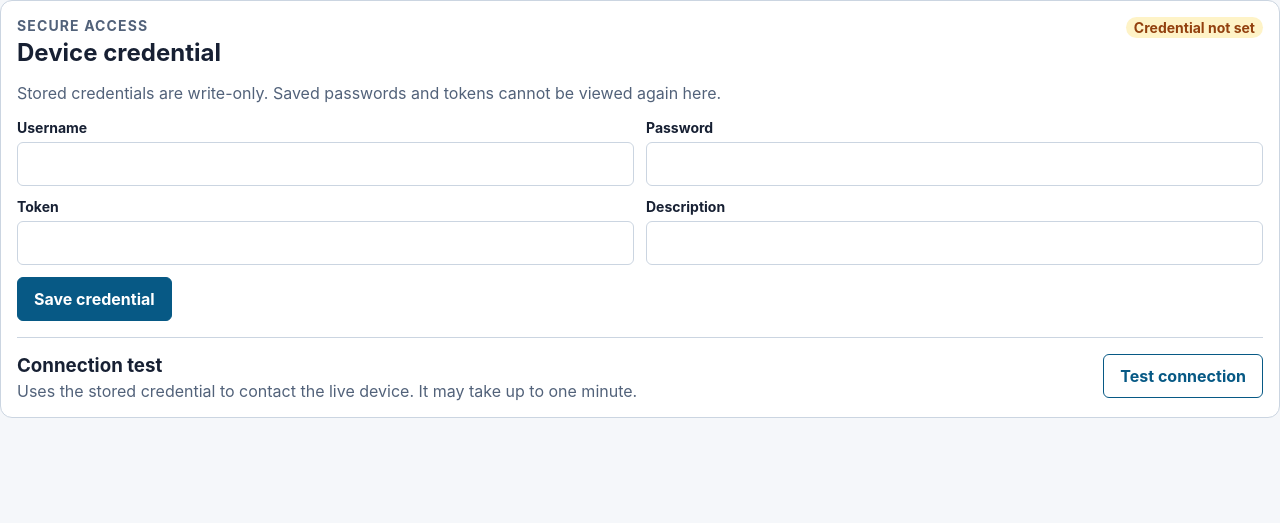
Test case: CredentialPanel › clears password and token after credential save and renders only safe confirmation data
Type "operator" into the field labelled "Username". click: (326, 164)
box: [17, 142, 634, 186]
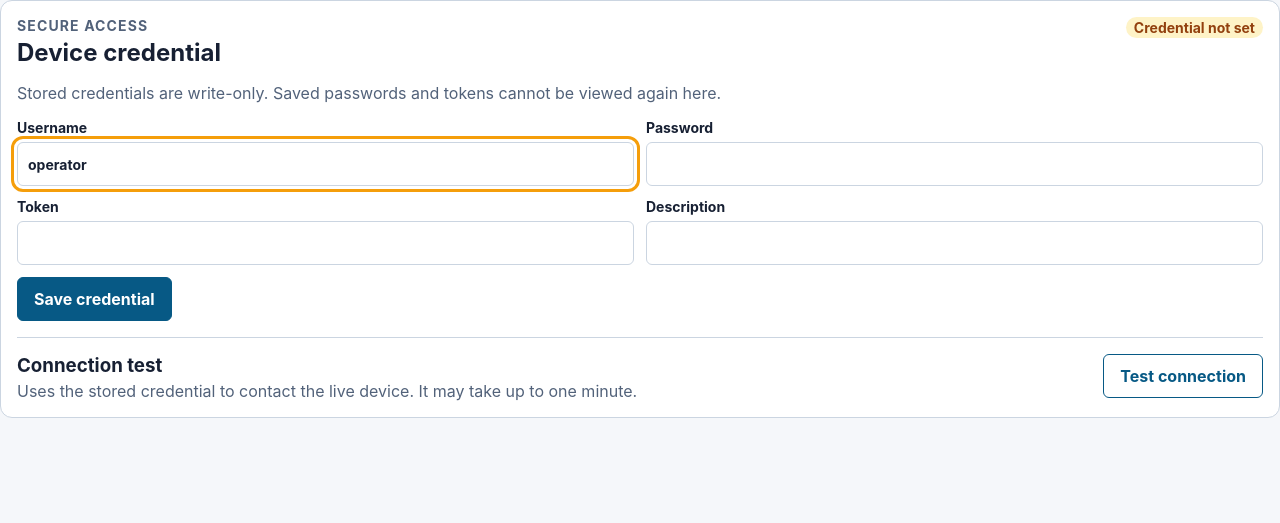
Type "never-render-again" into the password field labelled "Password". click: (954, 164)
box: [646, 142, 1263, 186]
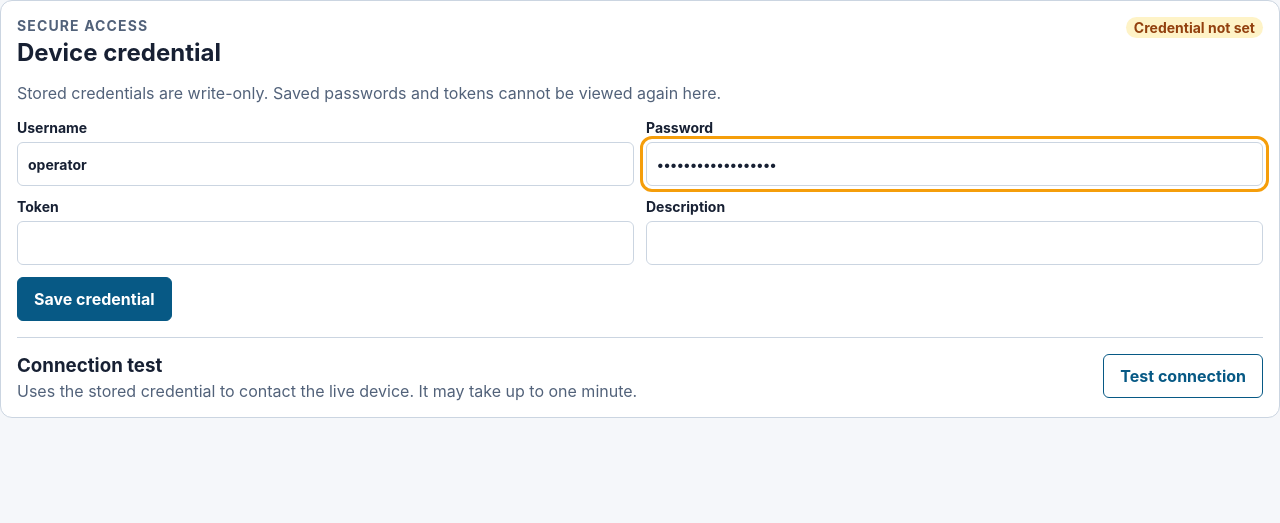
Type "also-never-render-again" into the password field labelled "Token". click: (326, 243)
box: [17, 221, 634, 265]
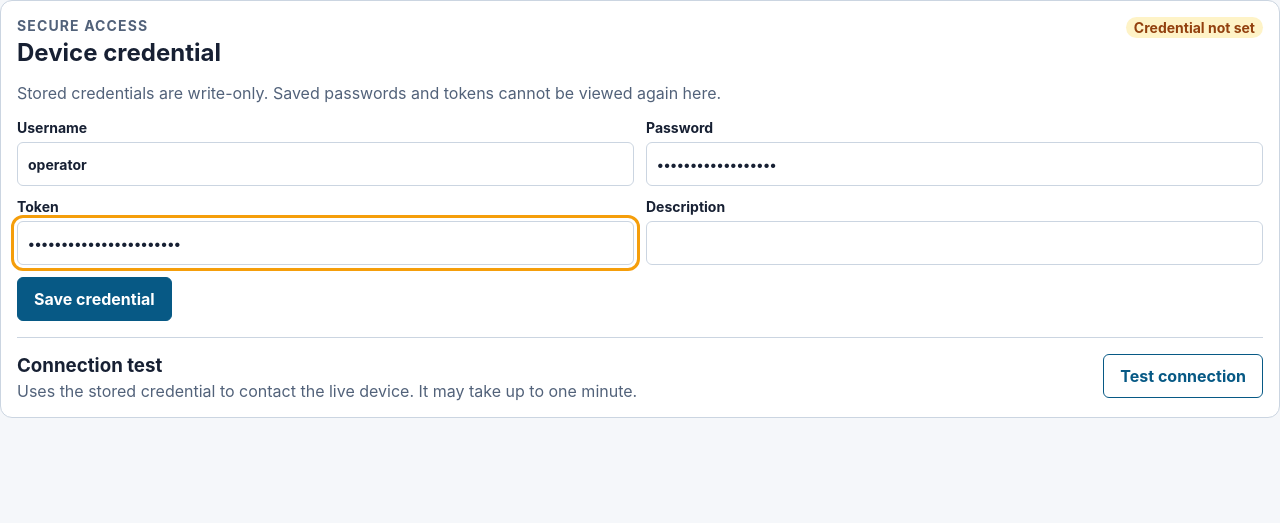
Type "Primary operator" into the field labelled "Description". click: (954, 243)
box: [646, 221, 1263, 265]
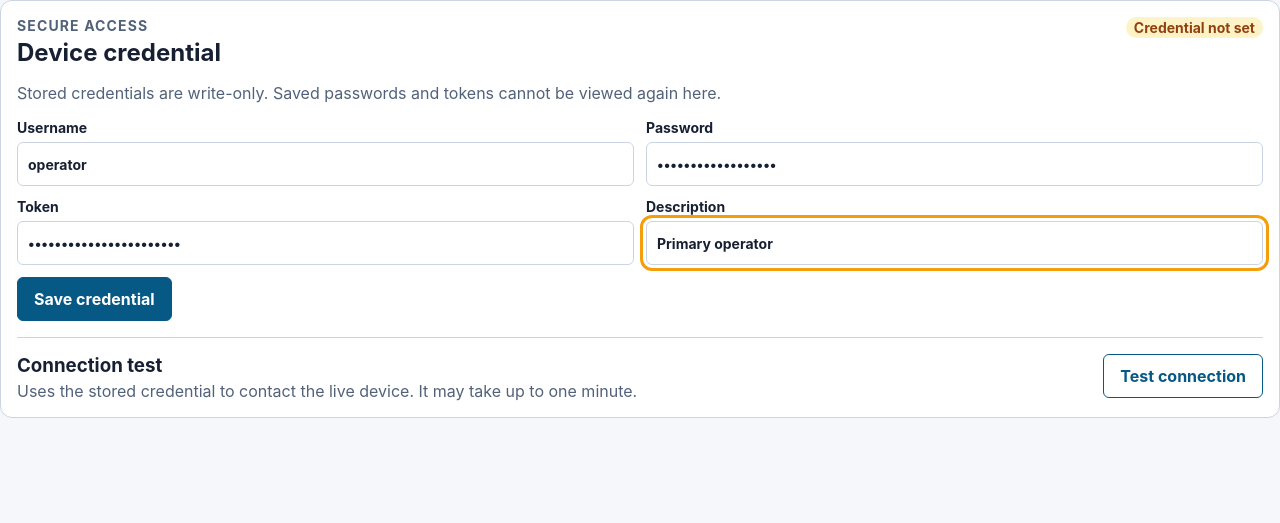
Click the button "Save credential". click: (94, 299)
box: [17, 277, 172, 321]
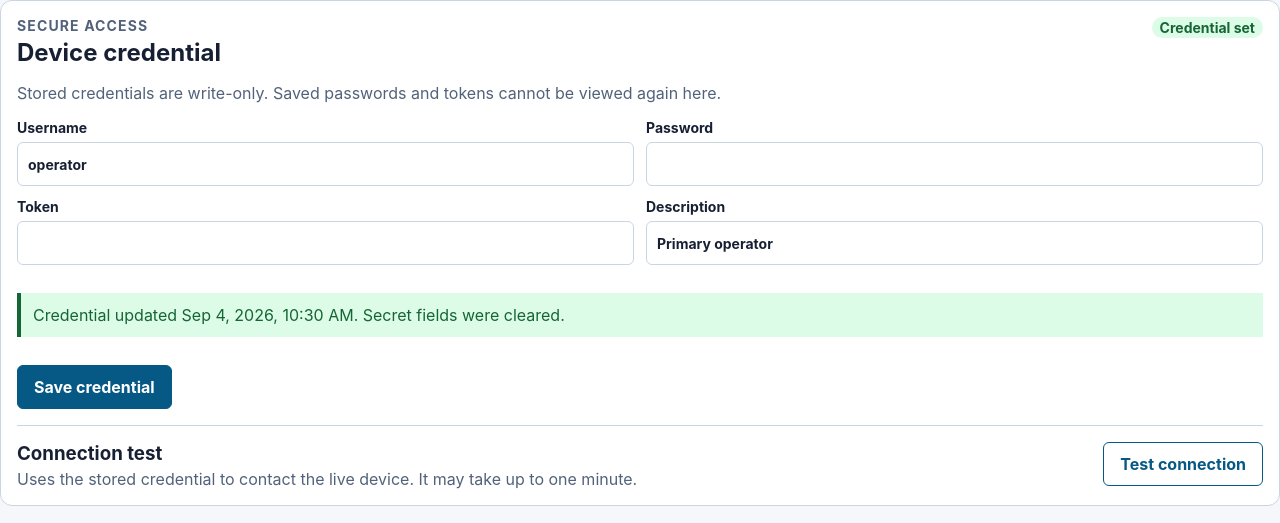
Expected: the text "Credential set" is shown, [1152, 17, 1263, 38]
Expected: the password field labelled "Password" is empty, [646, 142, 1263, 186]
Expected: the password field labelled "Token" is empty, [17, 221, 634, 265]
